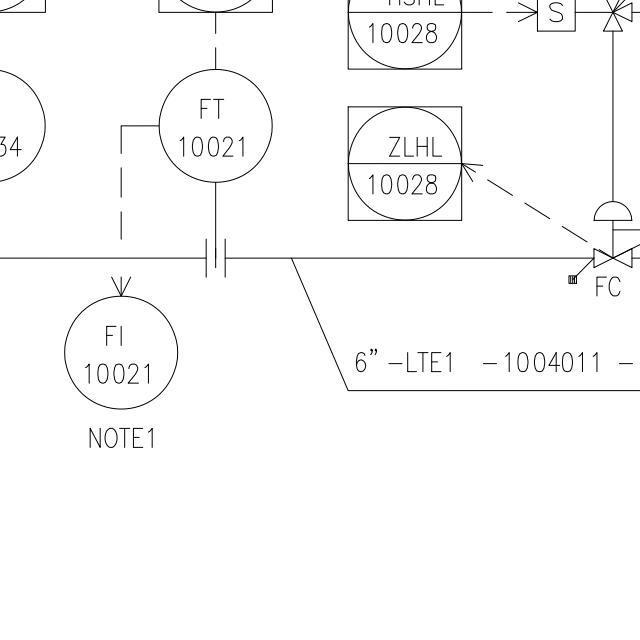FC: (588, 198, 635, 272)
